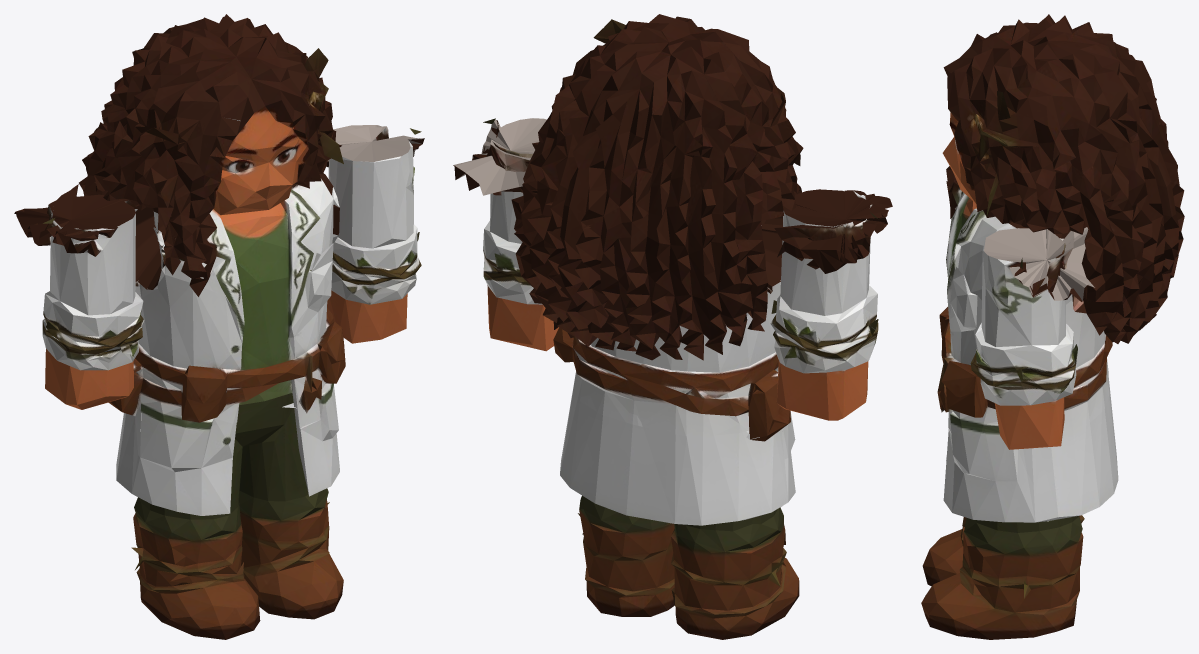
The model's file is Hera_R6_Auto_v2.fbx.
The picture shows the model from 3 angles, left to right: view 1: azimuth 30°, elevation 25°; view 2: azimuth 150°, elevation 25°; view 3: azimuth 270°, elevation 25°; orthographic projection. The views are drawn at different scales.
Parts seen in each view (by area): view 1: Torso, Head, RightLeg, RightArm, LeftLeg, LeftArm; view 2: Torso, Head, RightLeg, RightArm, LeftLeg, LeftArm; view 3: Head, Torso, LeftLeg, LeftArm, RightLeg.
Part boxes in pixels (box(x1,y1,x2,y2)): Torso: box(43, 128, 421, 504); Head: box(82, 14, 343, 220); RightLeg: box(116, 409, 260, 639); RightArm: box(14, 184, 144, 409); LeftLeg: box(239, 384, 343, 619); LeftArm: box(326, 125, 424, 343); Torso: box(483, 118, 878, 511); Head: box(522, 14, 803, 239); RightLeg: box(634, 412, 799, 639); RightArm: box(770, 189, 892, 420); LeftLeg: box(560, 391, 674, 616); LeftArm: box(453, 118, 558, 351); Head: box(942, 14, 1179, 234); Torso: box(937, 166, 1184, 522); LeftLeg: box(921, 395, 1118, 639); LeftArm: box(970, 227, 1094, 449); RightLeg: box(922, 378, 1117, 586).
Size of the model in its own units: 4.12 by 5.77 by 2.43.
1 material, 1 textured.
